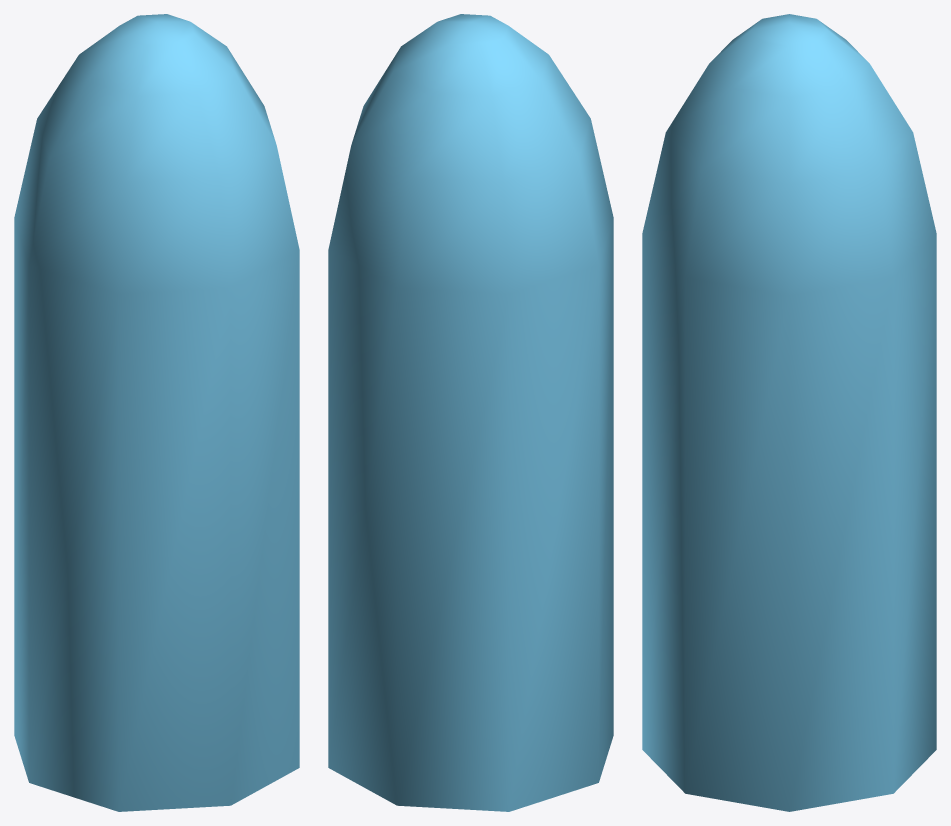
The model's file is SM_9mmRound.fbx.
The picture shows the model from 3 angles, left to right: view 1: azimuth 30°, elevation 25°; view 2: azimuth 150°, elevation 25°; view 3: azimuth 270°, elevation 25°; orthographic projection.
Visible parts, largest first — view 1: ShootingRange_Assets1_3; view 2: ShootingRange_Assets1_3; view 3: ShootingRange_Assets1_3.
Part boxes in pixels (left/top/right/bottom): ShootingRange_Assets1_3: left=14, top=14, right=299, bottom=811; ShootingRange_Assets1_3: left=328, top=14, right=613, bottom=811; ShootingRange_Assets1_3: left=642, top=14, right=936, bottom=811.
Bounding box in the file's own units: 2.35 × 6.39 × 2.35.
